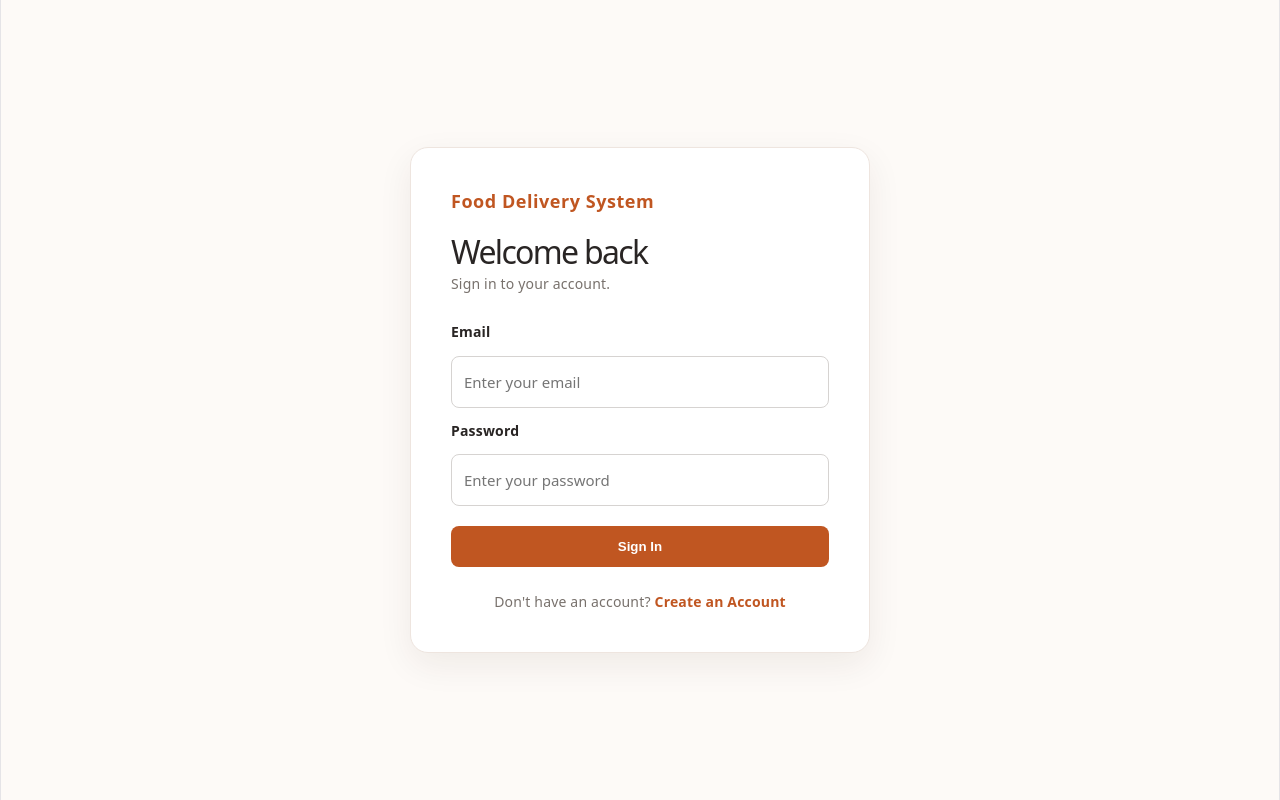
Authentication › displays invalid login credentials
This screenshot has width=1280, height=800.
Step 1. Type "customer@example.com" into the field labelled "Email" → point(640, 382), box [451, 356, 829, 408]
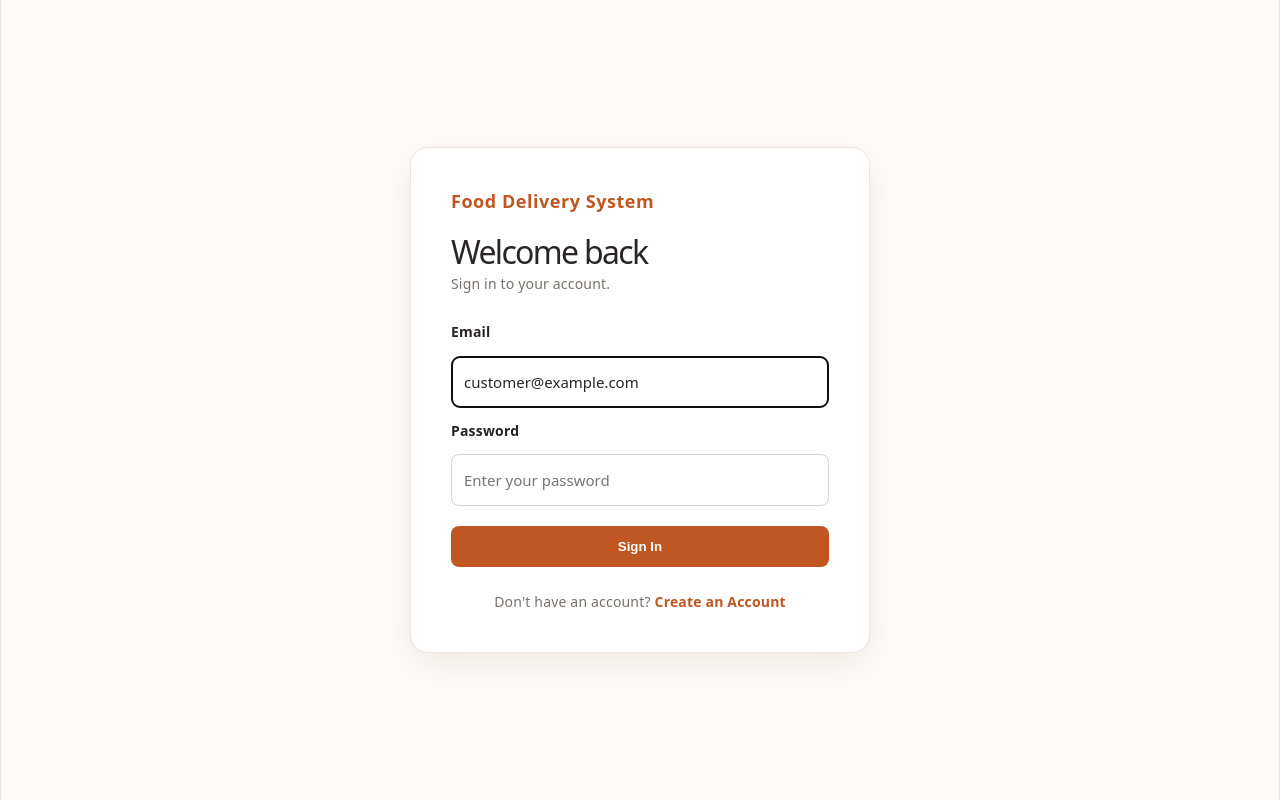
Step 2. Type "password123" into the password field labelled "Password" → point(640, 480), box [451, 454, 829, 506]
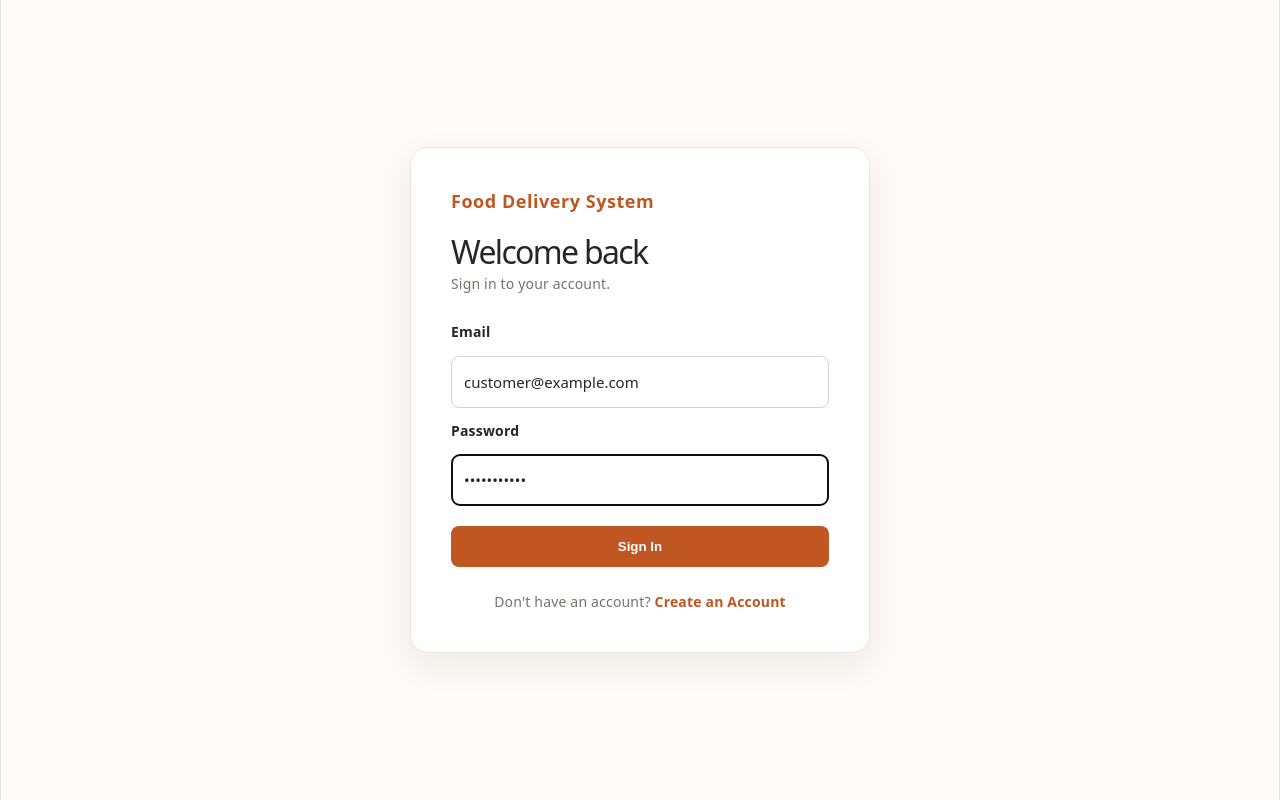
Step 3. Click the button "Sign In" → point(640, 546), box [451, 526, 829, 567]
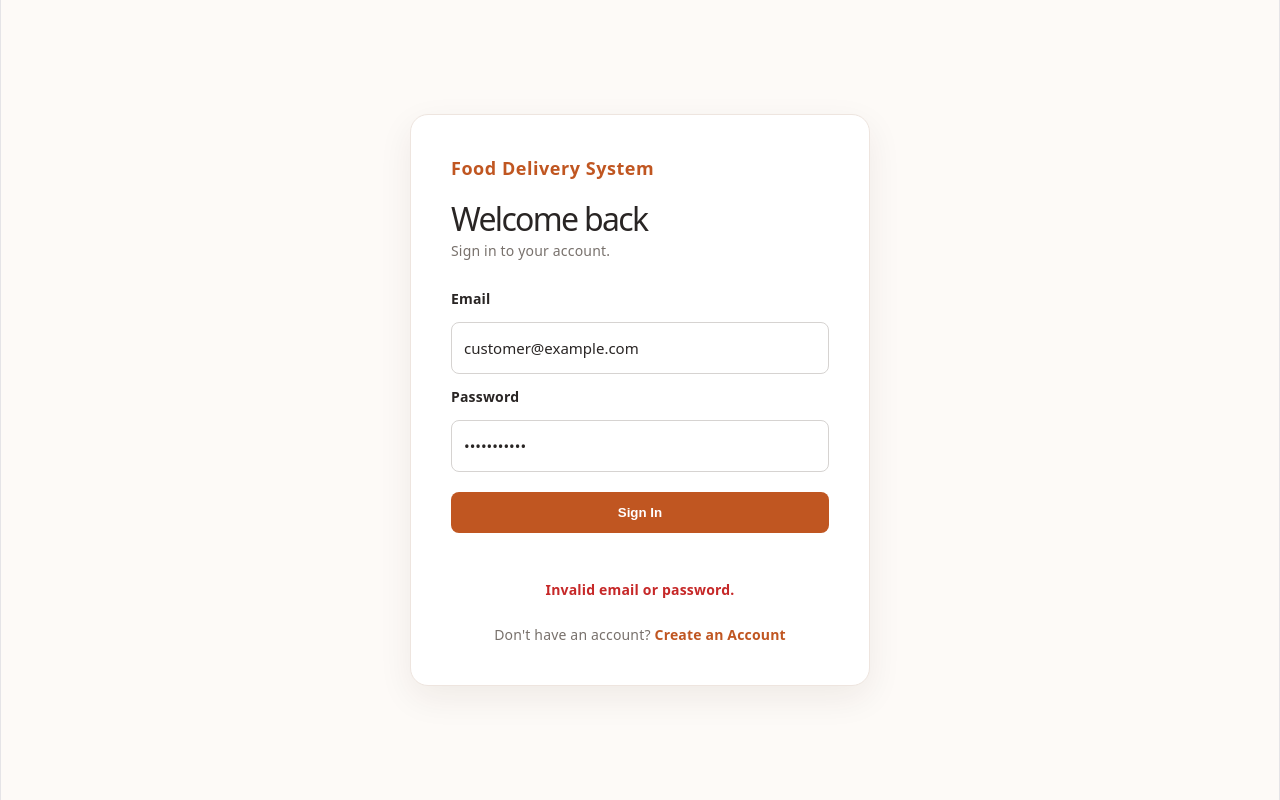
Expected: the heading "Welcome back" is shown, [451, 197, 647, 240]
Expected: the message reads "Invalid email or password.", [546, 580, 734, 599]
